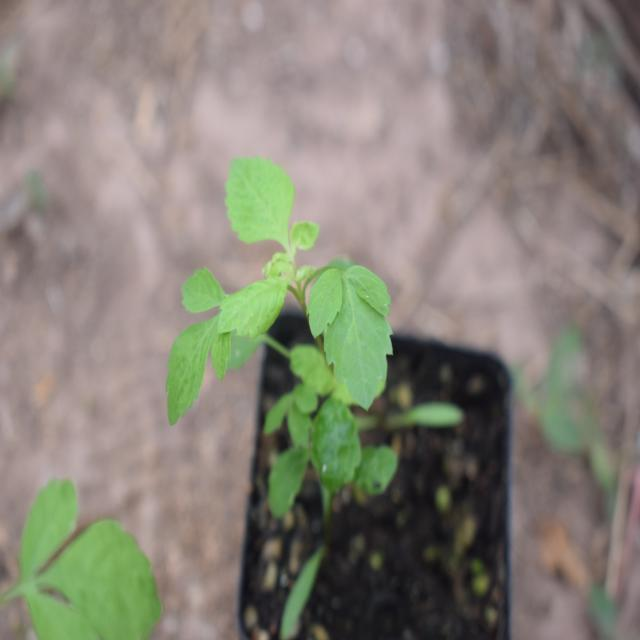Bidens pilosa: (157, 160, 415, 519)
